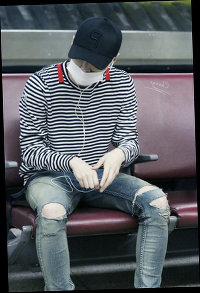mask_weared_incorrect: (65, 58, 110, 87)
